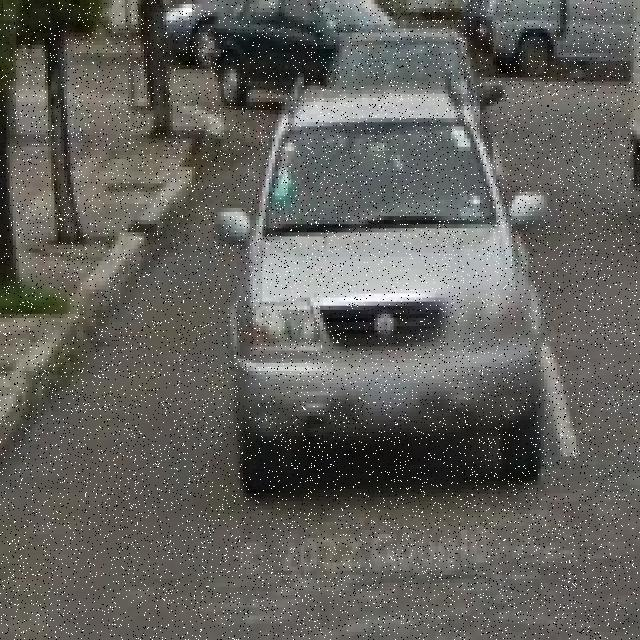cars: (231, 88, 555, 498)
